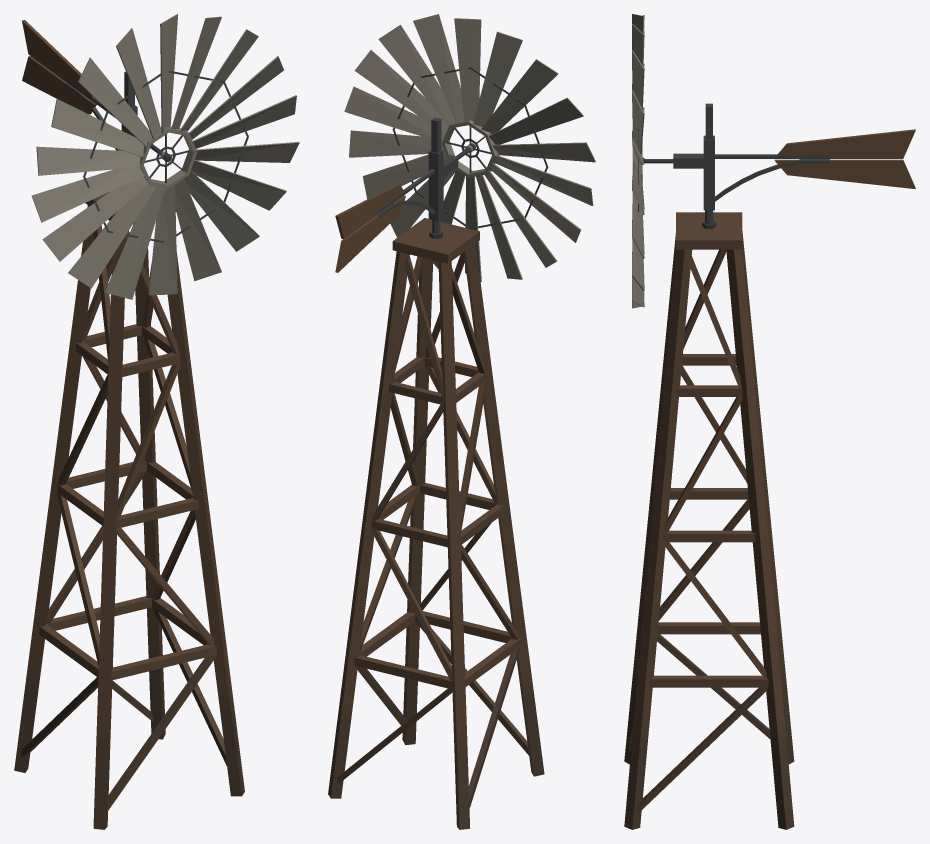
Rendered from SM_Props_Desert_Windmill.fbx.
3 renders of one model, left to right at view 1: azimuth 30°, elevation 25°; view 2: azimuth 150°, elevation 25°; view 3: azimuth 270°, elevation 25°, orthographic. The views are drawn at different scales.
Parts seen in each view (by area): view 1: SM_Props_Desert_Windmill, SM_Props_Desert_Windmill_Rotor, SM_Props_Desert_Windmill_Tail; view 2: SM_Props_Desert_Windmill, SM_Props_Desert_Windmill_Rotor, SM_Props_Desert_Windmill_Tail; view 3: SM_Props_Desert_Windmill, SM_Props_Desert_Windmill_Tail, SM_Props_Desert_Windmill_Rotor.
Part boxes in pixels (box(x1,y1,x2,y2)): SM_Props_Desert_Windmill: box(14, 191, 244, 829); SM_Props_Desert_Windmill_Rotor: box(31, 14, 299, 299); SM_Props_Desert_Windmill_Tail: box(22, 20, 153, 150); SM_Props_Desert_Windmill: box(328, 218, 544, 829); SM_Props_Desert_Windmill_Rotor: box(344, 14, 595, 281); SM_Props_Desert_Windmill_Tail: box(335, 117, 458, 272); SM_Props_Desert_Windmill: box(624, 212, 794, 829); SM_Props_Desert_Windmill_Tail: box(673, 103, 915, 228); SM_Props_Desert_Windmill_Rotor: box(632, 14, 673, 308).
Size of the model in its own units: 5.74 by 16.47 by 5.67.
